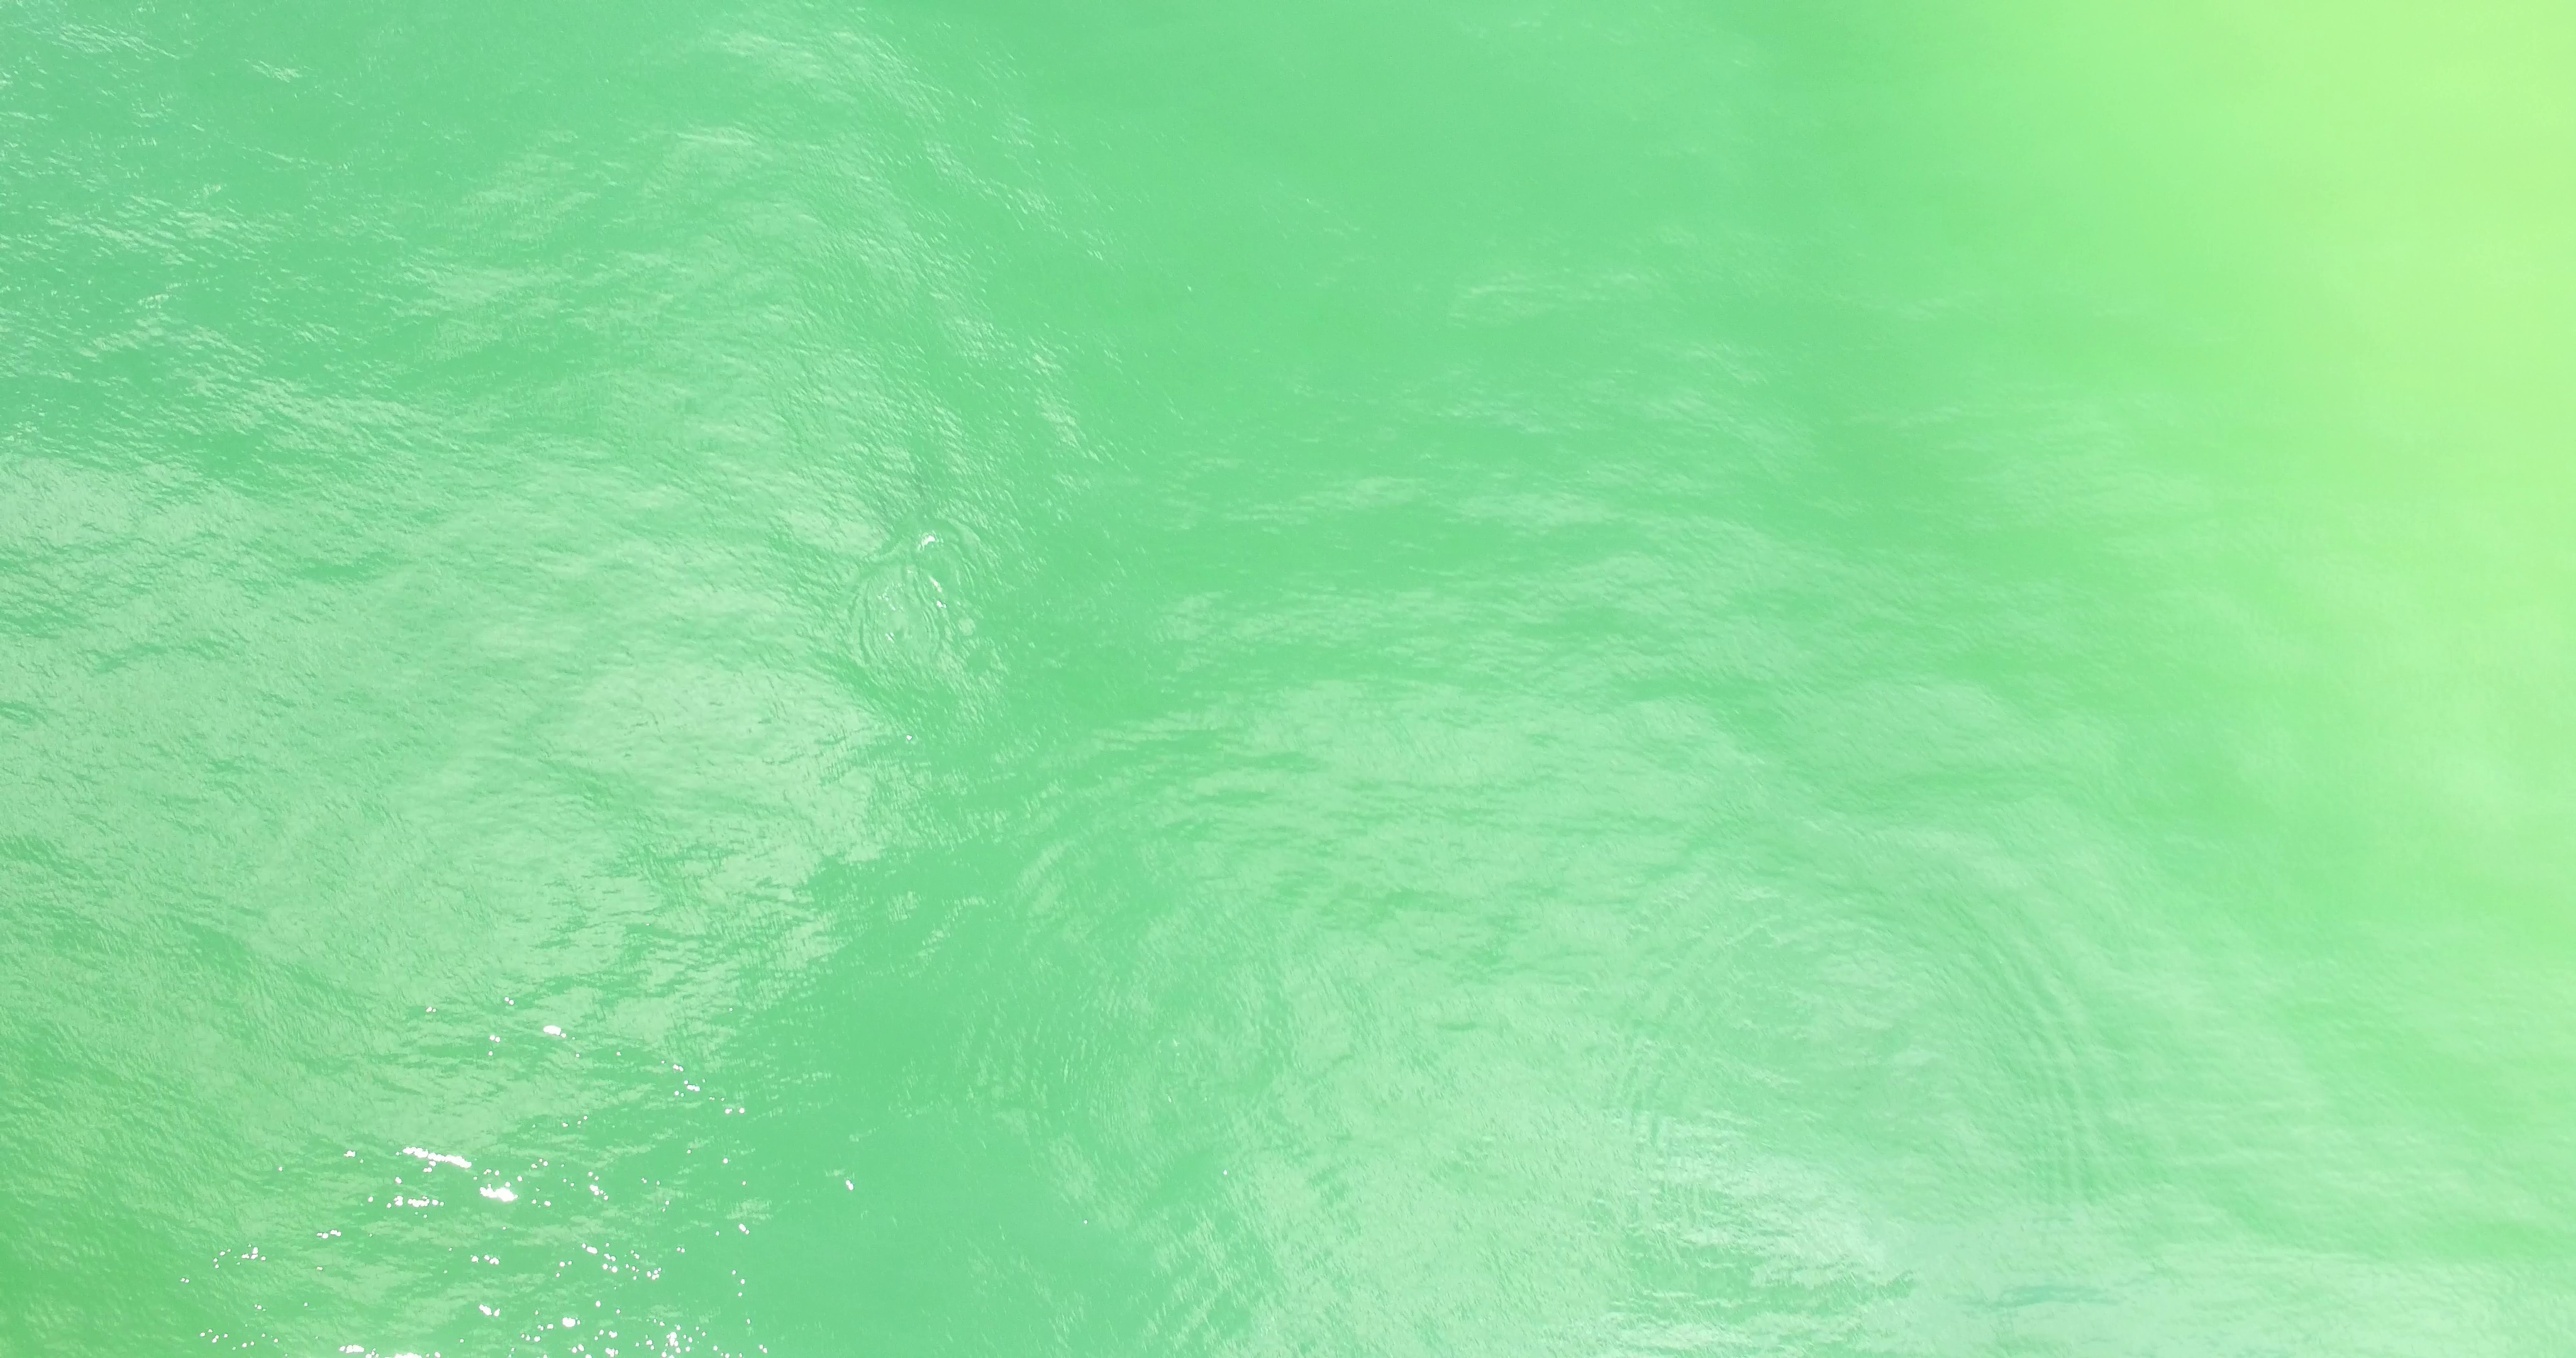dolphin: (872, 559, 927, 647)
